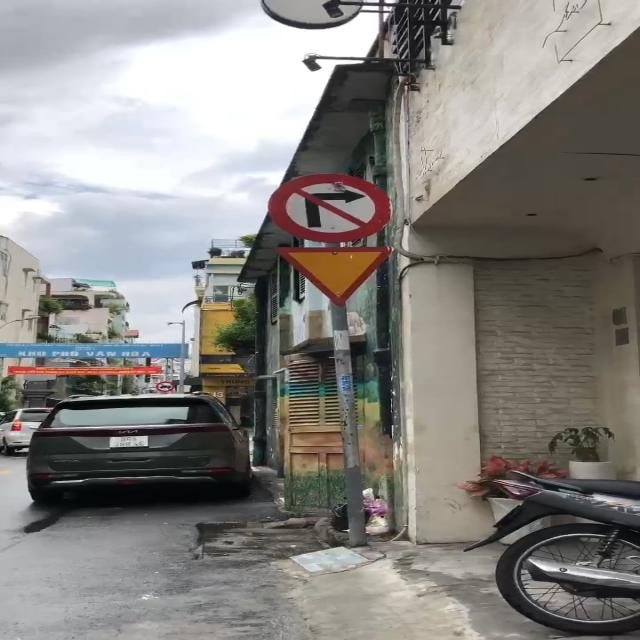Bien bao cam re phai: (270, 172, 393, 245)
Bien bao giao nhau voi duong uu tien: (269, 242, 405, 309)
